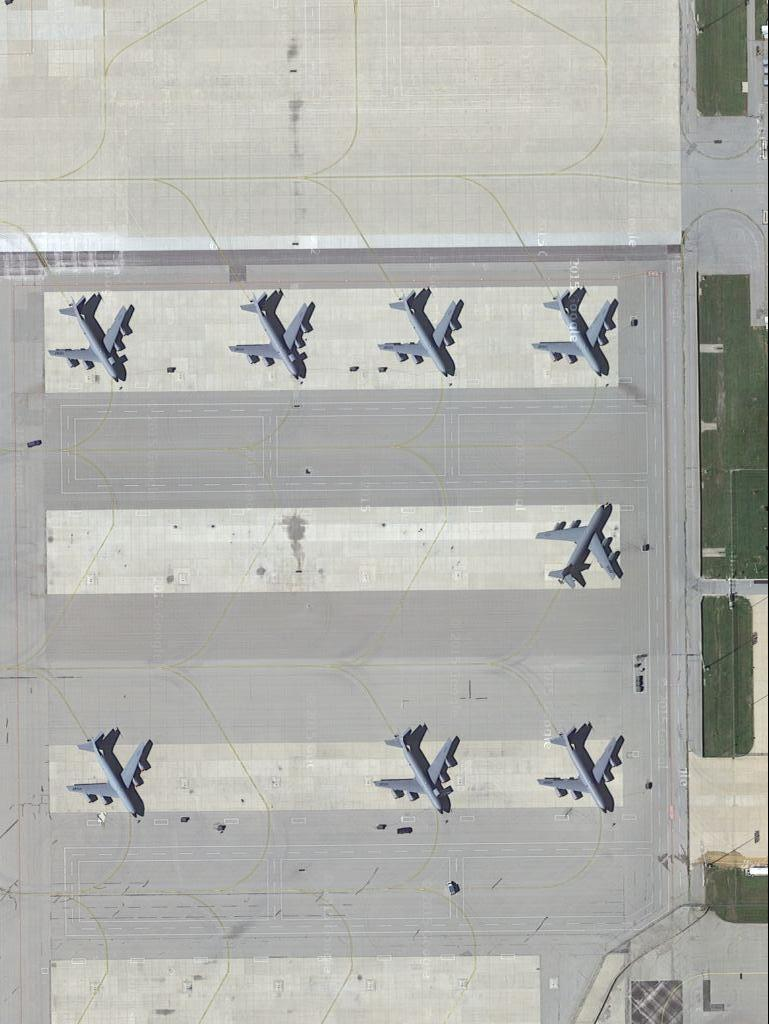KC-135: (63, 726, 157, 823), (375, 719, 465, 817), (228, 288, 316, 387), (539, 725, 627, 822), (531, 283, 618, 381), (47, 290, 137, 381), (532, 501, 623, 591), (374, 289, 465, 378)
